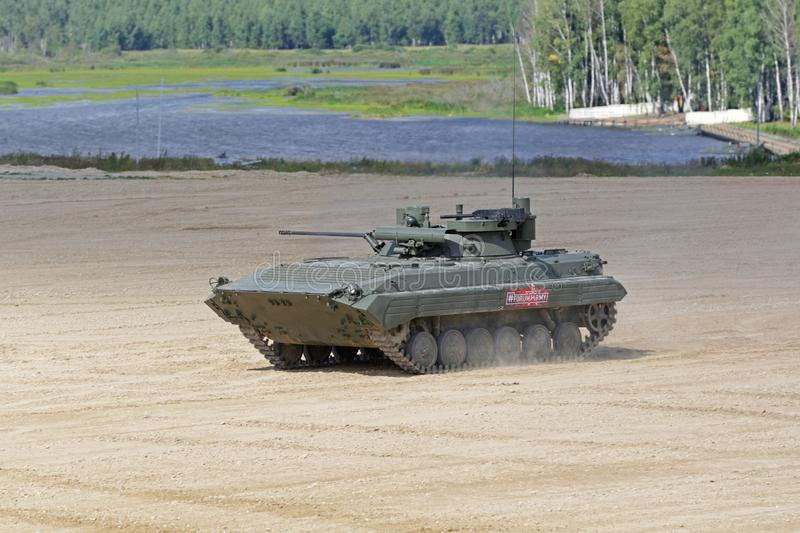bmp1: (214, 203, 622, 357)
